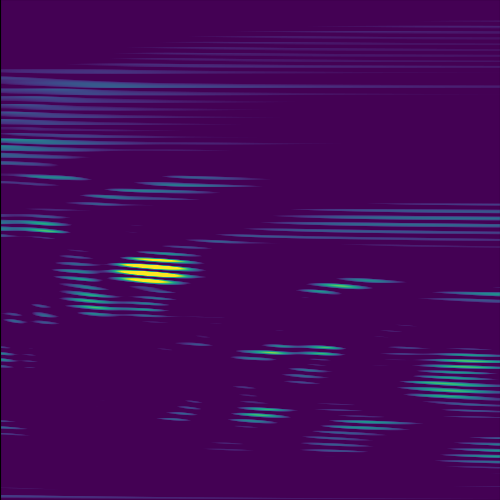semblance: (109, 252, 207, 284)
